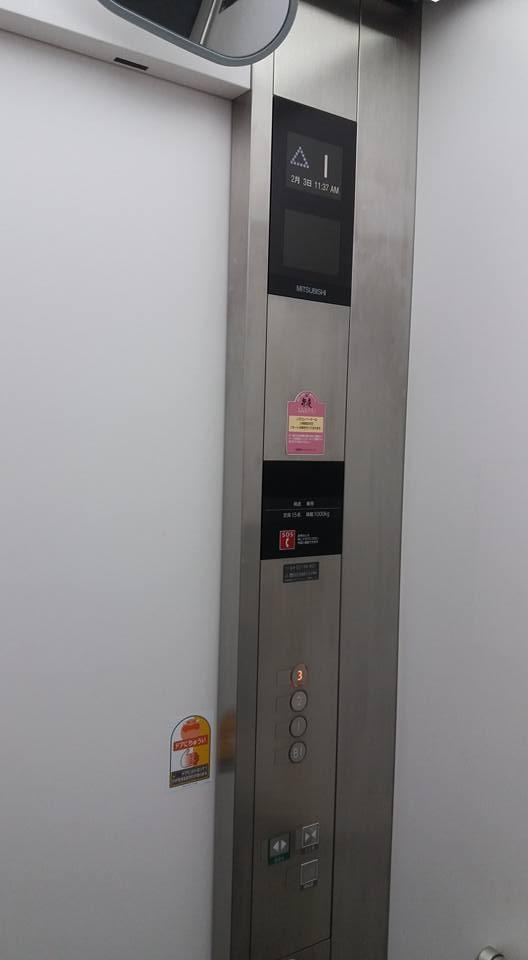1: (289, 715, 309, 737)
2: (289, 690, 309, 712)
3: (289, 663, 309, 688)
B1: (289, 741, 307, 763)
call: (277, 527, 296, 550)
close: (299, 821, 320, 852)
empty: (299, 858, 320, 888)
led: (268, 92, 356, 308), (258, 459, 346, 500)
open: (267, 832, 292, 860)
